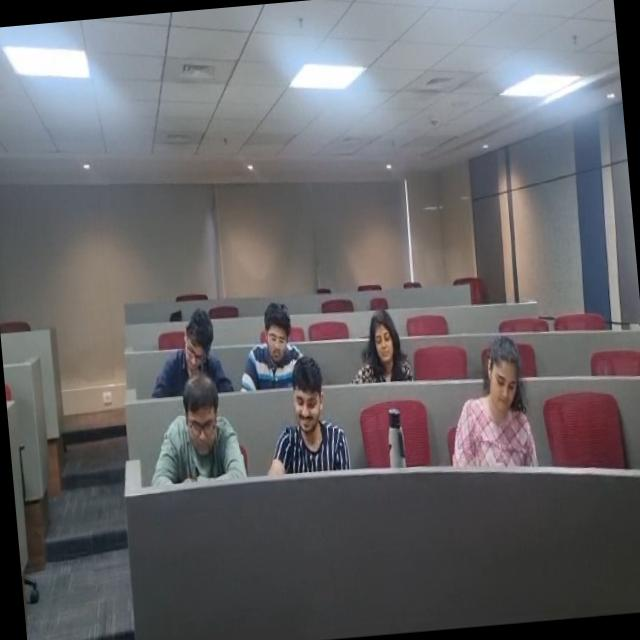cheating: (278, 358, 350, 473)
non-cheating: (453, 333, 538, 477), (158, 376, 248, 485), (147, 303, 235, 396), (236, 294, 309, 388), (346, 306, 424, 392)
